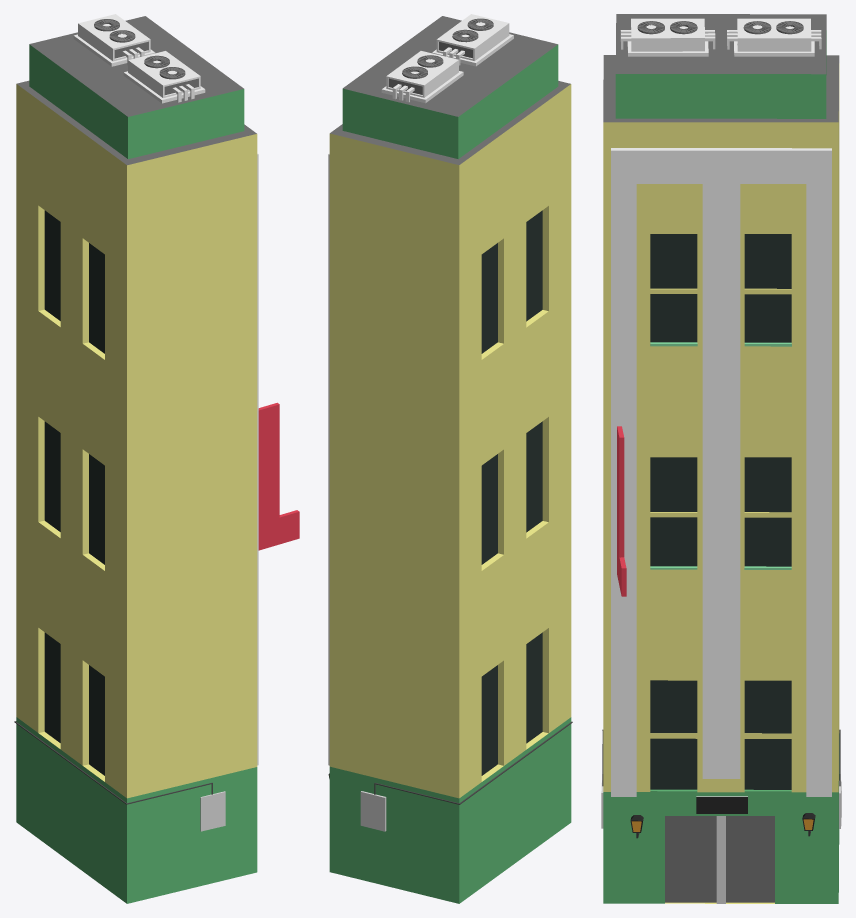
Rendered from Building_042.glb.
3 renders of one model, left to right at view 1: azimuth 30°, elevation 25°; view 2: azimuth 150°, elevation 25°; view 3: azimuth 270°, elevation 25°, orthographic. The views are drawn at different scales.
Parts seen in each view (by area): view 1: Cube.13889, Cube.13885, Cube.13886, Cube.13888; view 2: Cube.13889, Cube.13886, Cube.13885, Cube.13888; view 3: Cube.13889, Cube.13888, Cube.13885, Cube.13886.
Part boxes in pixels (bbox=[...]): Cube.13889: bbox=[14, 16, 299, 903]; Cube.13885: bbox=[123, 51, 205, 103]; Cube.13886: bbox=[73, 14, 155, 66]; Cube.13888: bbox=[257, 153, 258, 765]; Cube.13889: bbox=[328, 16, 572, 903]; Cube.13886: bbox=[381, 51, 463, 103]; Cube.13885: bbox=[432, 14, 513, 66]; Cube.13888: bbox=[328, 153, 329, 765]; Cube.13889: bbox=[601, 14, 841, 903]; Cube.13888: bbox=[611, 148, 831, 796]; Cube.13885: bbox=[620, 18, 715, 56]; Cube.13886: bbox=[727, 18, 821, 56].
Bounding box in the file's own units: 0.1575 × 0.66 × 0.17.
